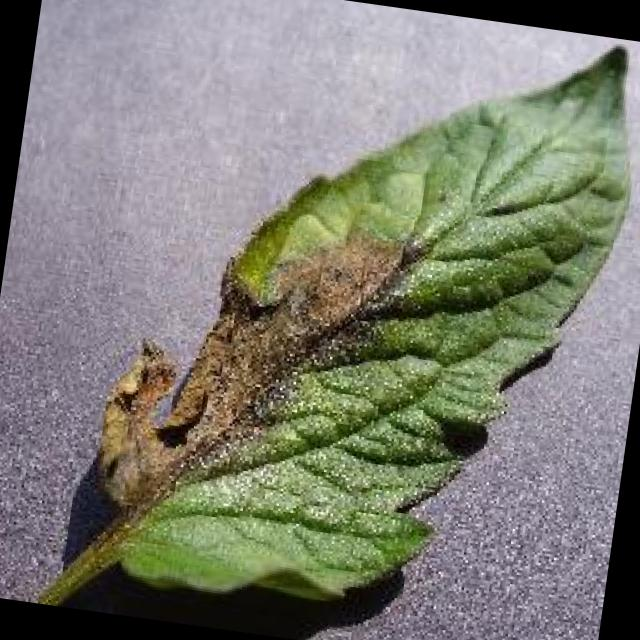Tomato_Late_Blight: (79, 198, 425, 530)
